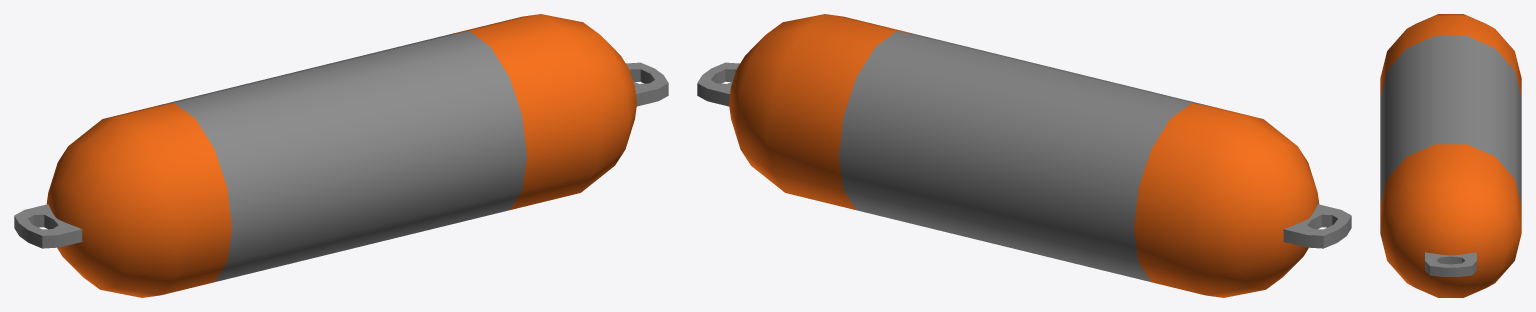
The model's file is prop_28.FBX.
3 renders of one model, left to right at view 1: azimuth 30°, elevation 25°; view 2: azimuth 150°, elevation 25°; view 3: azimuth 270°, elevation 25°, orthographic. The views are drawn at different scales.
Visible parts, largest first — view 1: prop_28; view 2: prop_28; view 3: prop_28.
Boxes of the visible parts, x1,y1,x2,y2 form: prop_28: [14, 14, 668, 297]; prop_28: [697, 14, 1351, 297]; prop_28: [1380, 14, 1521, 297].
Size of the model in its own units: 42.42 by 10.61 by 10.88.
